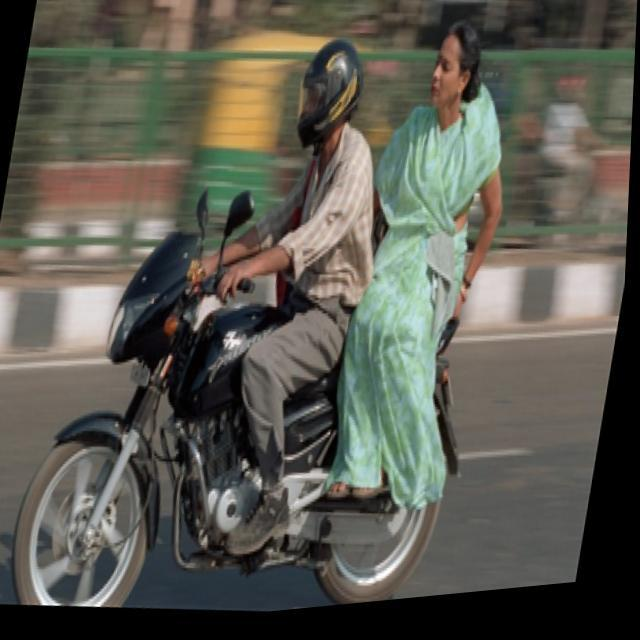Helmet: (287, 28, 362, 154)
Nonhelmet: (413, 14, 485, 123)
